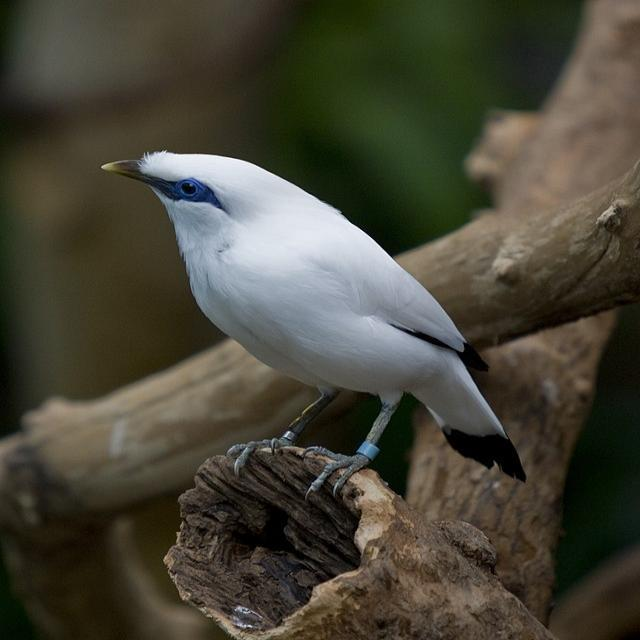Jalak Bali: (76, 130, 541, 520)
